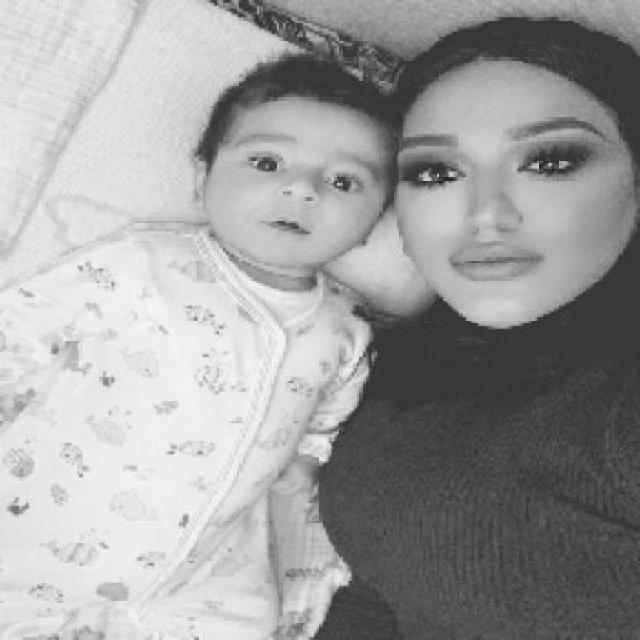child: (2, 48, 398, 638)
